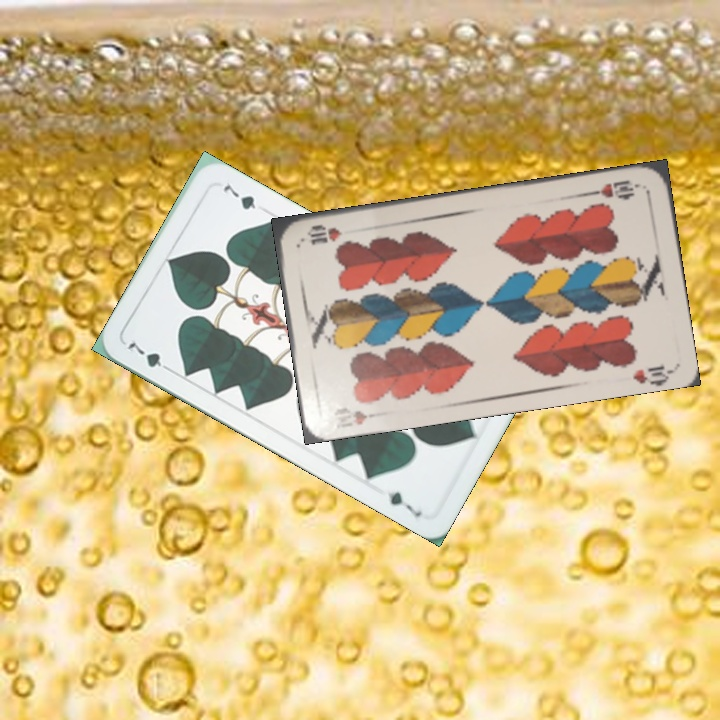G7: (123, 338, 176, 376)
H10: (585, 176, 643, 201), (330, 403, 385, 428)
